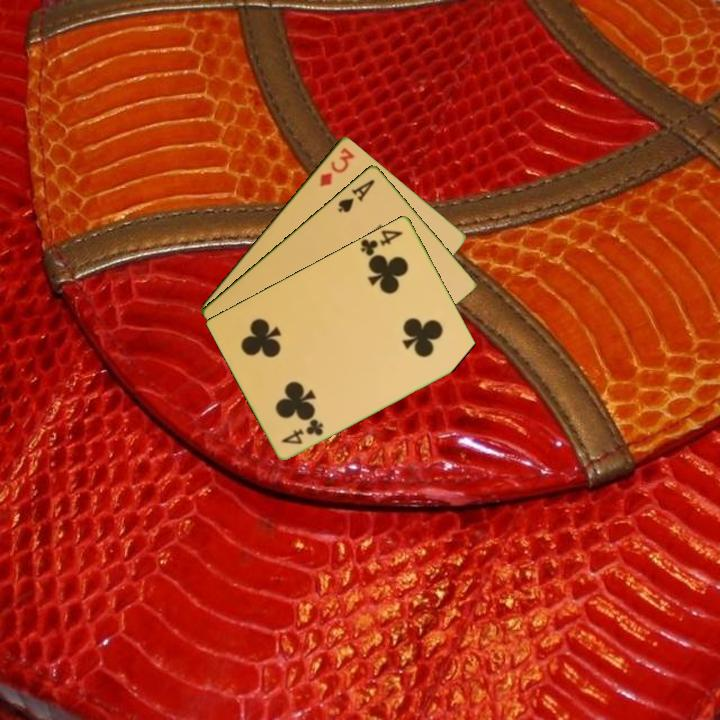3d: (316, 143, 357, 189)
4c: (357, 226, 406, 259), (278, 415, 326, 447)
As: (334, 175, 378, 215)
